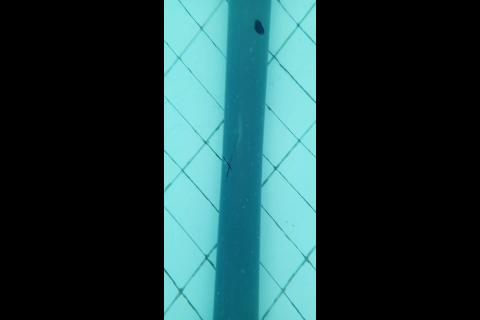kebocoran: (253, 17, 265, 37)
keretakan: (222, 137, 237, 178)
